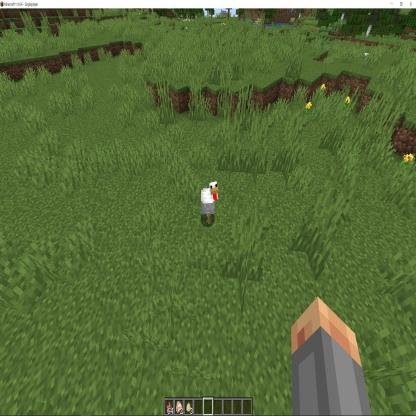minecraft-pigs: (199, 181, 219, 228)
